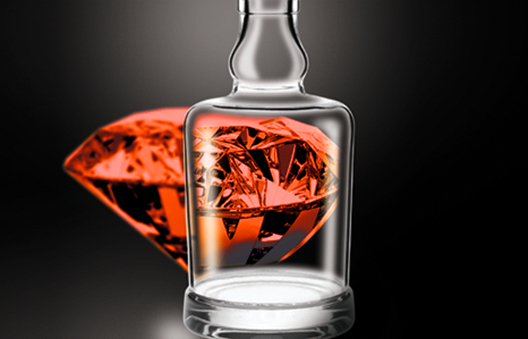glass_bottle: (181, 1, 358, 339)
